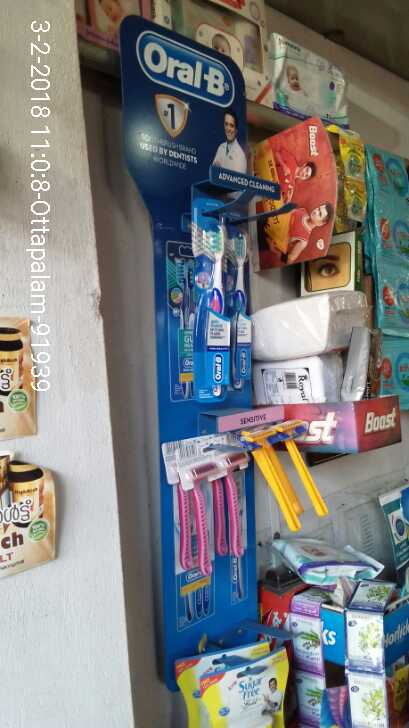oralb: (191, 197, 228, 402), (224, 212, 253, 382)
